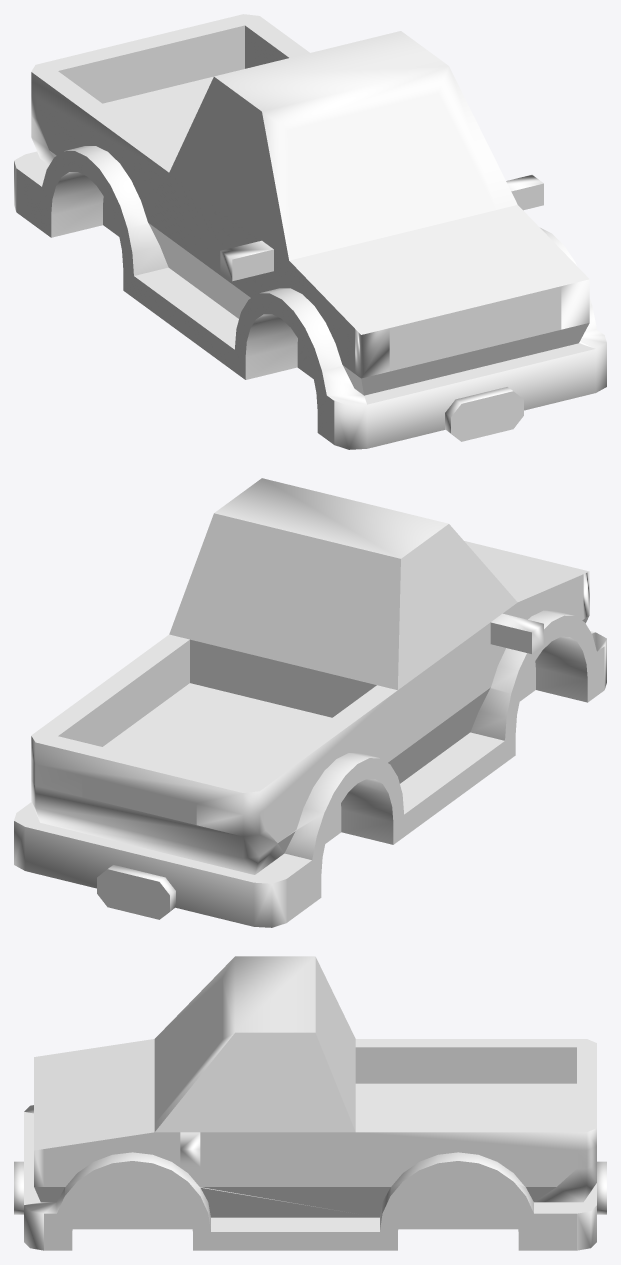
Rendered from pickUp-vehicle.glb.
The picture shows the model from 3 angles, top to bottom: view 1: azimuth 30°, elevation 25°; view 2: azimuth 150°, elevation 25°; view 3: azimuth 270°, elevation 25°; orthographic projection. The views are drawn at different scales.
Parts seen in each view (by area): view 1: pickUp-vehicle; view 2: pickUp-vehicle; view 3: pickUp-vehicle.
Boxes of the visible parts, x1,y1,x2,y2 form: pickUp-vehicle: (14, 14, 606, 449); pickUp-vehicle: (14, 478, 606, 927); pickUp-vehicle: (14, 956, 606, 1250).
Size of the model in its own units: 1.5 by 1.15 by 2.95.
1 material, 1 textured.
